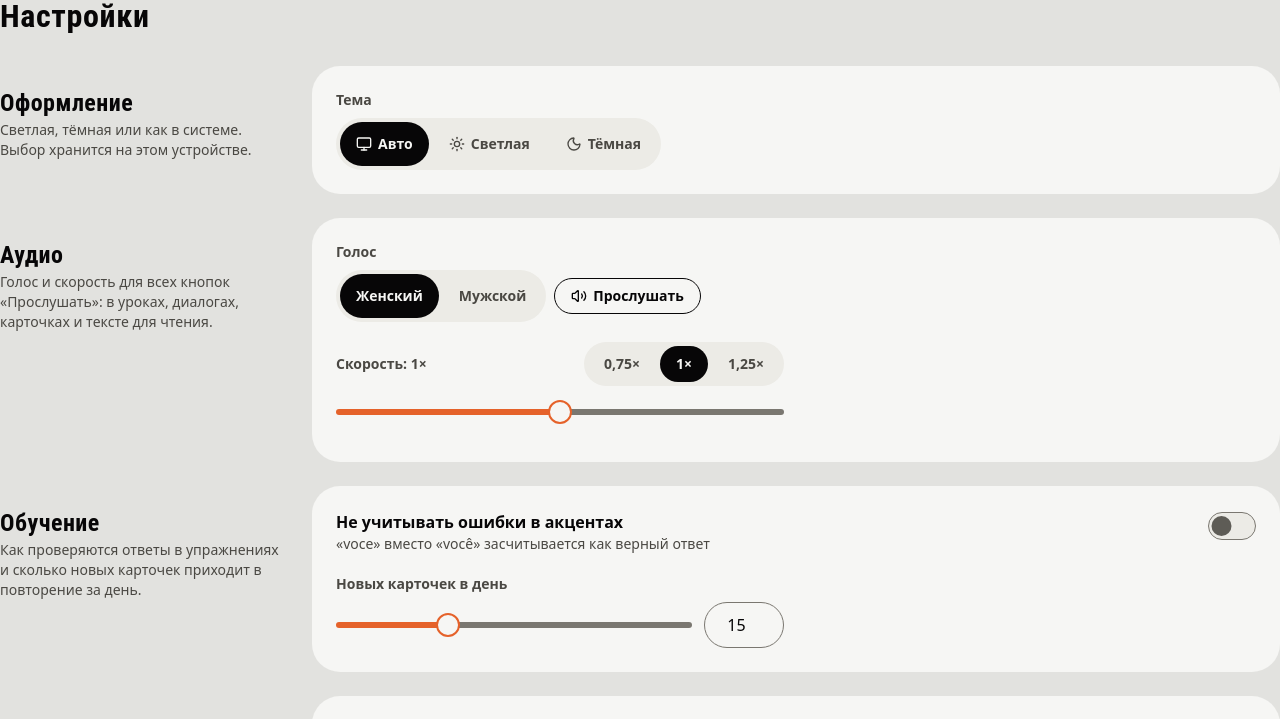
SettingsPage: preferences persist to the store › new cards per day: slider and the number field (clamped to 0..200)
Set the slider labelled "Новых карточек в день" to "25": [514, 625] box [336,603,692,647]
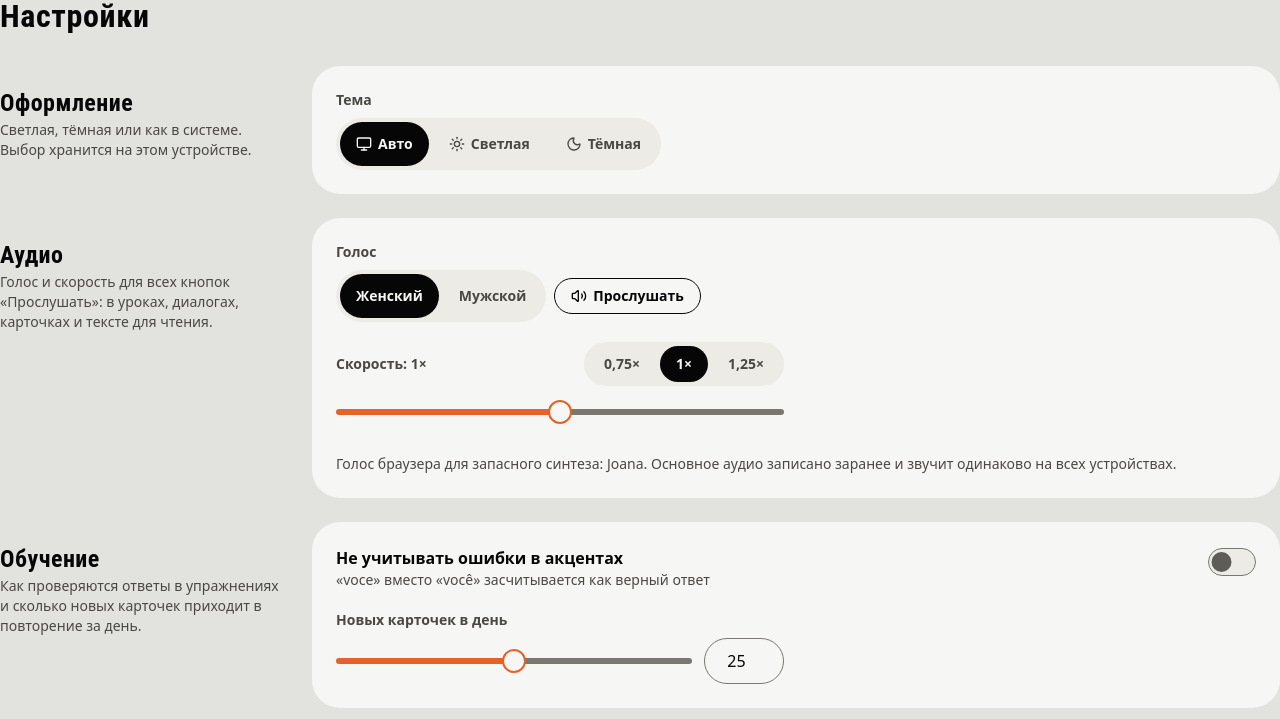
Replace the text in the number field named "Новых карточек в день, число" with "500": [744, 661] box [704,638,784,684]
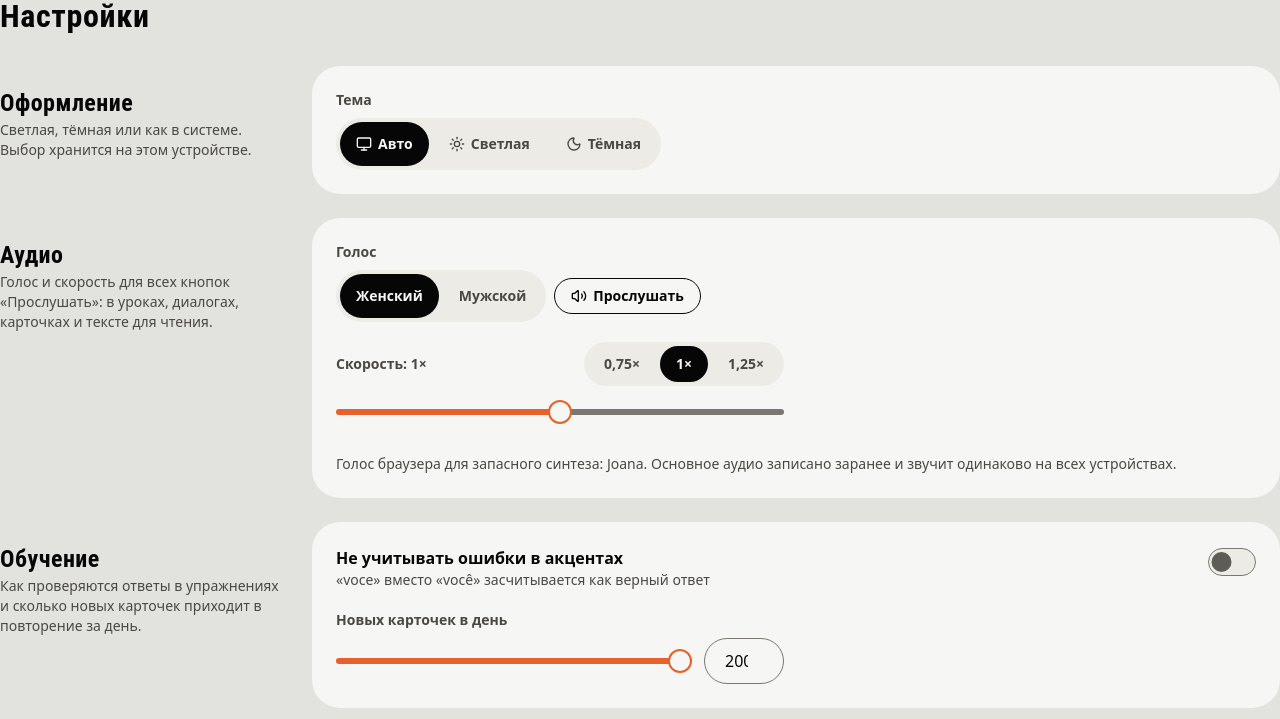
expect the number field named "Новых карточек в день, число" holds "200": met
expect the slider labelled "Новых карточек в день" holds "50": met, box [336,639,692,683]
Replace the text in the number field named "Новых карточек в день, число" with "-4": [744, 661] box [704,638,784,684]
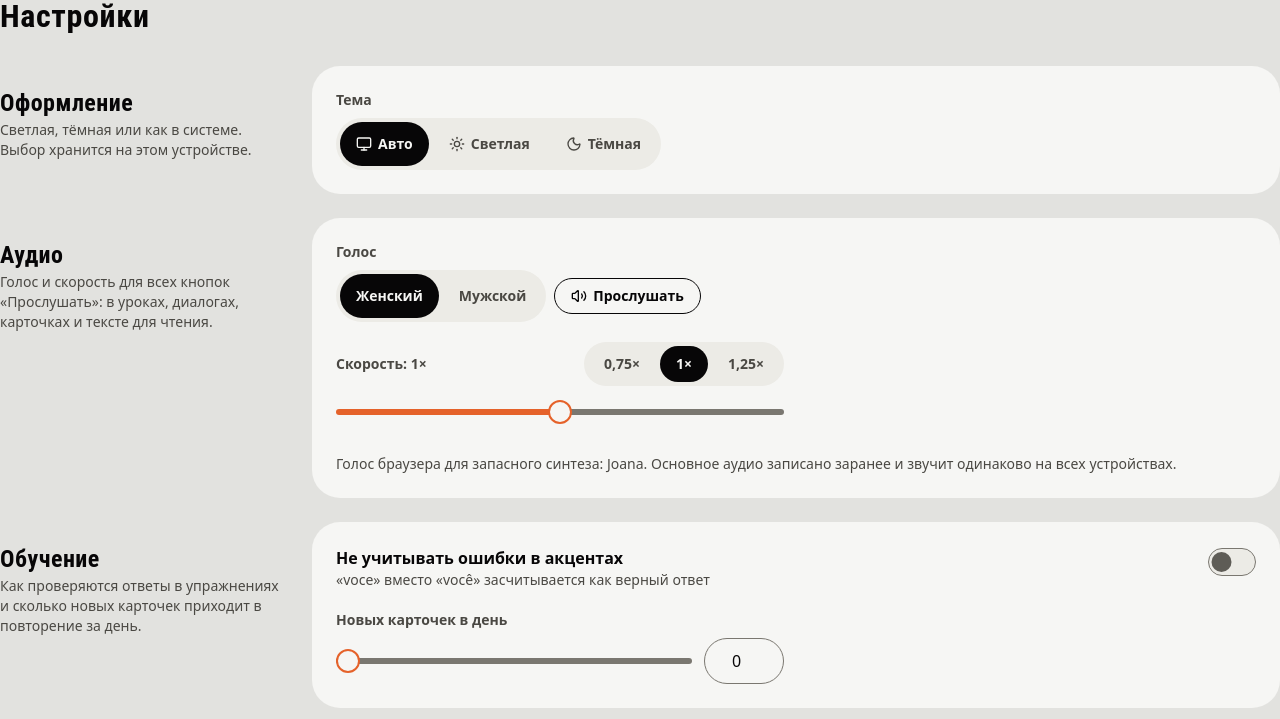
expect the number field named "Новых карточек в день, число" holds "0": met, box [704,638,784,684]
